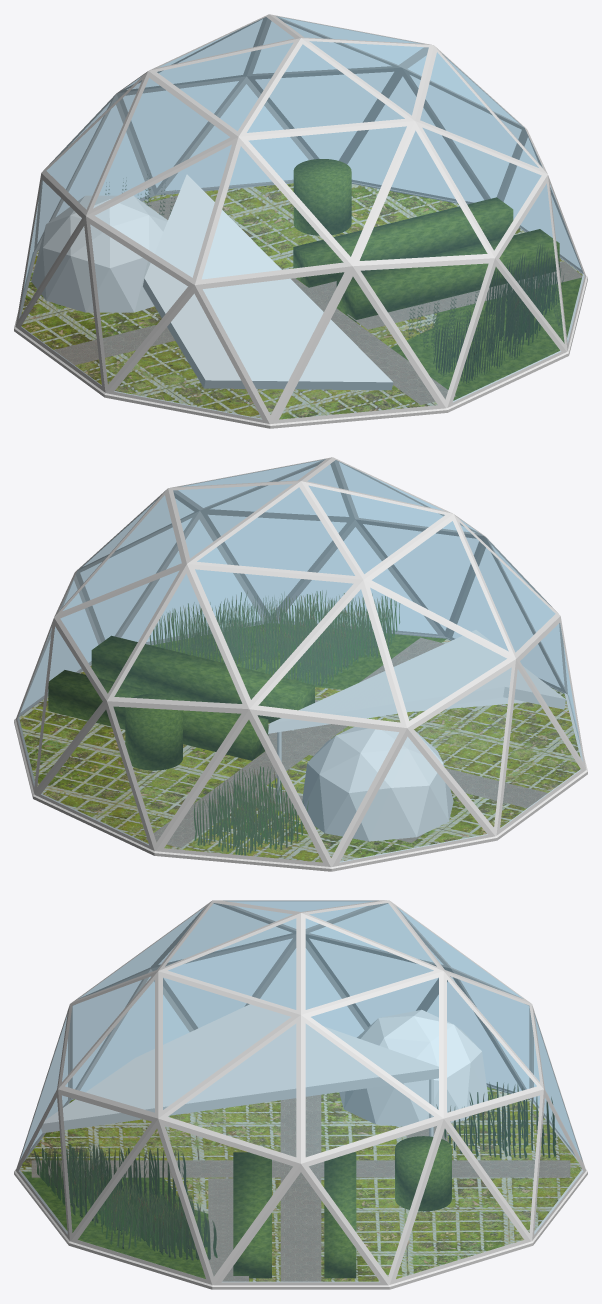
The model's file is Erholungscenter.gltf.
The picture shows the model from 3 angles, top to bottom: view 1: azimuth 30°, elevation 25°; view 2: azimuth 150°, elevation 25°; view 3: azimuth 270°, elevation 25°; orthographic projection. The views are drawn at different scales.
Parts seen in each view (by area): view 1: Erholungscenter; view 2: Erholungscenter; view 3: Erholungscenter.
Part boxes in pixels (x1,y1,x2,y2): Erholungscenter: (14, 14, 587, 428); Erholungscenter: (14, 457, 587, 871); Erholungscenter: (14, 900, 587, 1289).
Bounding box in the file's own units: 30.53 × 16.14 × 32.1.
Materials: 8 (4 with a texture image).
